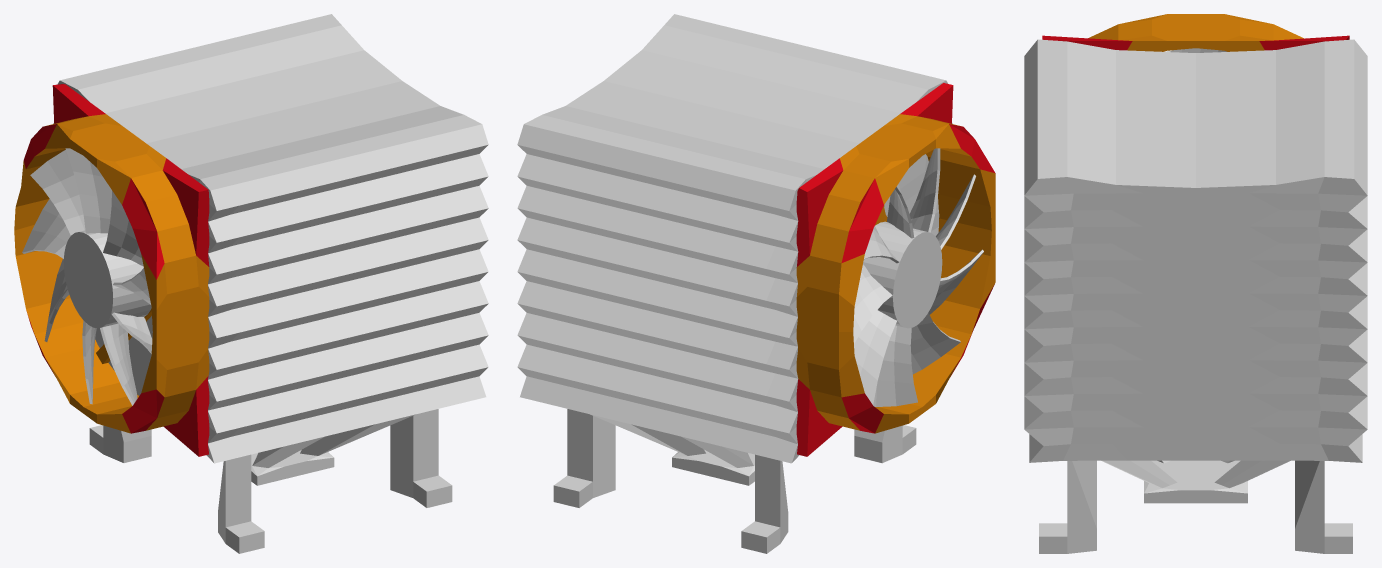
The model's file is CPU_Cooler.fbx.
3 renders of one model, left to right at view 1: azimuth 30°, elevation 25°; view 2: azimuth 150°, elevation 25°; view 3: azimuth 270°, elevation 25°, orthographic. The views are drawn at different scales.
Parts seen in each view (by area): view 1: CPU_Cooler_base, cpu_Fan; view 2: CPU_Cooler_base, cpu_Fan; view 3: CPU_Cooler_base.
Boxes of the visible parts, x1,y1,x2,y2 form: CPU_Cooler_base: (14, 14, 488, 553); cpu_Fan: (22, 148, 152, 405); CPU_Cooler_base: (517, 14, 995, 553); cpu_Fan: (853, 148, 983, 406); CPU_Cooler_base: (1024, 14, 1367, 553).
Size of the model in its own units: 11.08 by 12.15 by 9.69.
